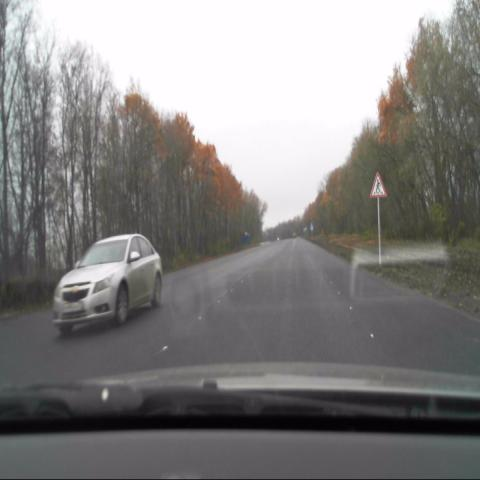1_22: (369, 172, 388, 199)
